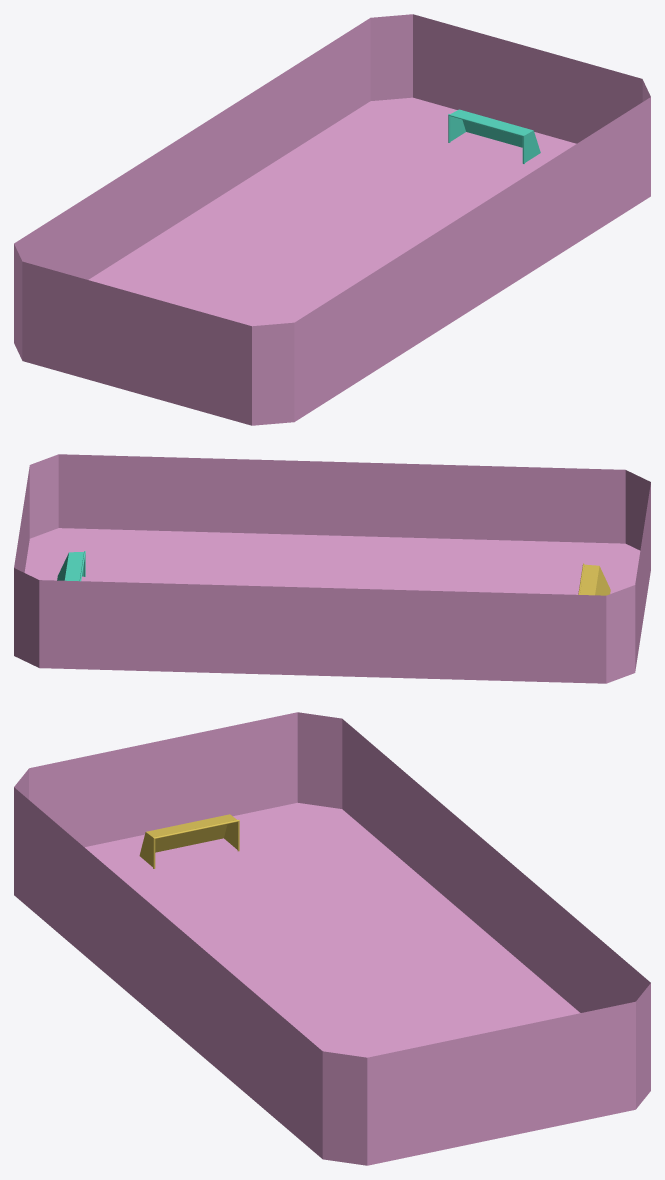
File: stadium.obj
3 renders of one model, top to bottom at view 1: azimuth 30°, elevation 25°; view 2: azimuth 150°, elevation 25°; view 3: azimuth 270°, elevation 25°, orthographic. The views are drawn at different scales.
Parts seen in each view (by area): view 1: Layer0_001, brana_002; view 2: Layer0_001, brana_001, brana_002; view 3: Layer0_001, brana_001.
Part boxes in pixels (<box>): Layer0_001: <box>14,14,650,425</box>; brana_002: <box>448,109,540,163</box>; Layer0_001: <box>14,454,650,683</box>; brana_001: <box>578,563,610,595</box>; brana_002: <box>57,551,85,581</box>; Layer0_001: <box>14,712,650,1165</box>; brana_001: <box>139,814,239,868</box>.
Size of the model in its own units: 49081 by 7160 by 38243.
